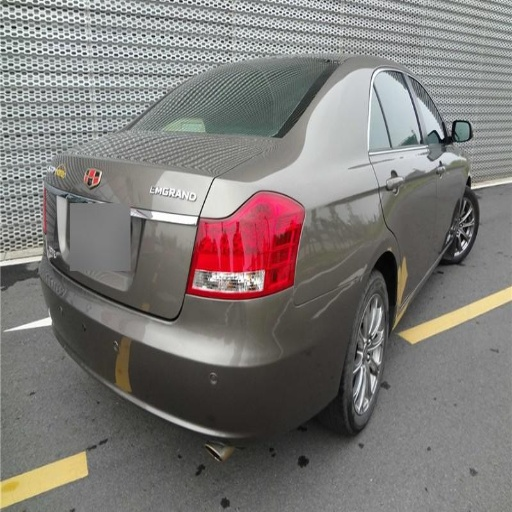back_bumper: (42, 263, 365, 452)
back_right_door: (367, 64, 432, 282)
tailgate: (48, 135, 271, 317)
